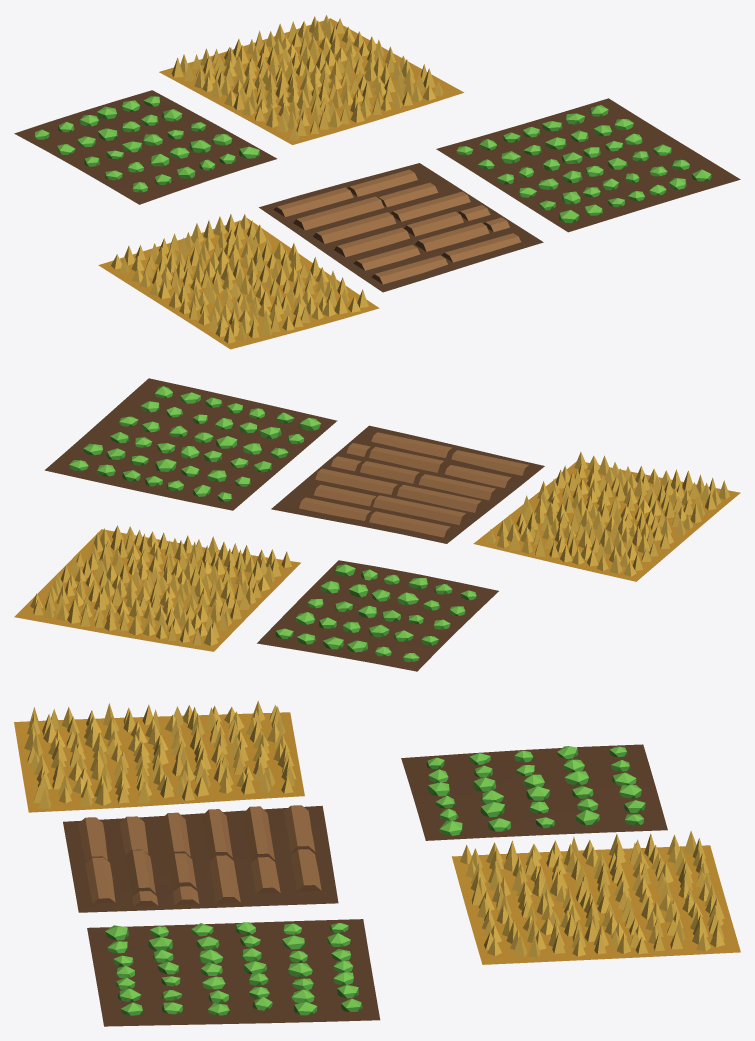
The model's file is Colony_Meadow_Fields.fbx.
3 views of the same model, one above another, from view 1: azimuth 30°, elevation 25°; view 2: azimuth 150°, elevation 25°; view 3: azimuth 270°, elevation 25° (orthographic). The views are drawn at different scales.
Parts seen in each view (by area): view 1: Colony_Meadow_Fields.001; view 2: Colony_Meadow_Fields.001; view 3: Colony_Meadow_Fields.001.
Boxes of the visible parts, x1,y1,x2,y2 form: Colony_Meadow_Fields.001: (14, 15, 740, 349); Colony_Meadow_Fields.001: (14, 378, 740, 671); Colony_Meadow_Fields.001: (14, 701, 740, 1026).
Size of the model in its own units: 9.24 by 0.4059 by 8.82.
